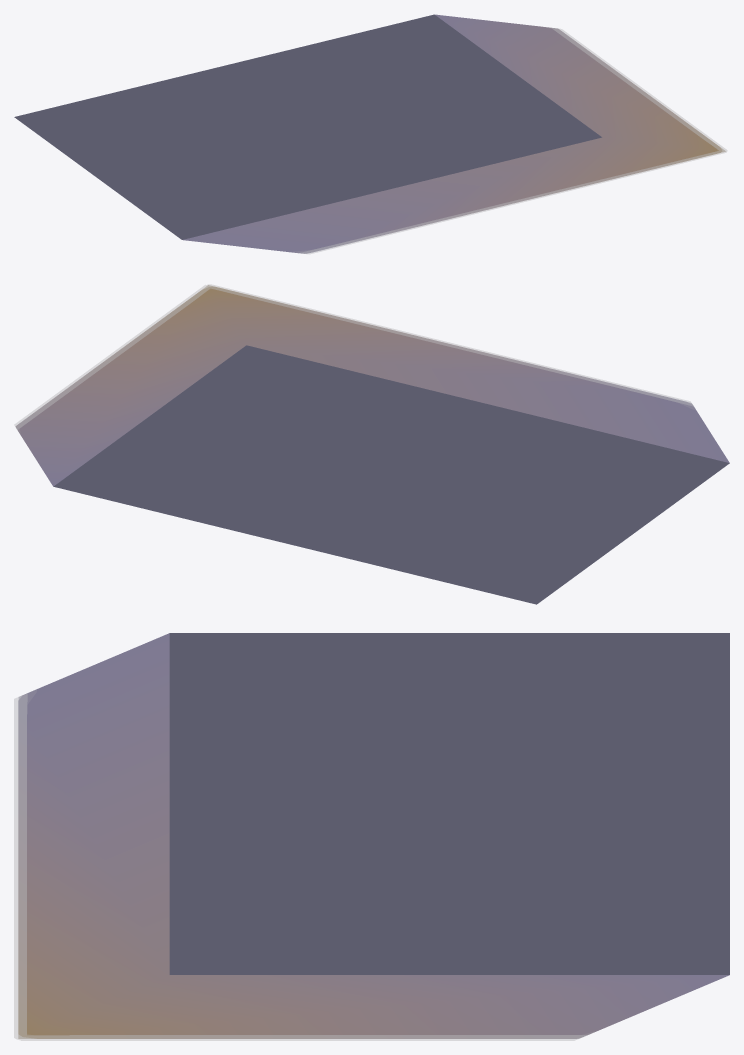
The picture shows the model from 3 angles, top to bottom: view 1: azimuth 30°, elevation 25°; view 2: azimuth 150°, elevation 25°; view 3: azimuth 270°, elevation 25°; orthographic projection. The views are drawn at different scales.
Visible parts, largest first — view 1: Joint_0_Object_0; view 2: Joint_0_Object_0; view 3: Joint_0_Object_0.
Part boxes in pixels (x1,y1,x2,y2): Joint_0_Object_0: [14, 14, 726, 253]; Joint_0_Object_0: [15, 285, 729, 604]; Joint_0_Object_0: [18, 633, 729, 1038].
Size of the model in its own units: 620 by 0 by 460.
1 material, 1 textured.
